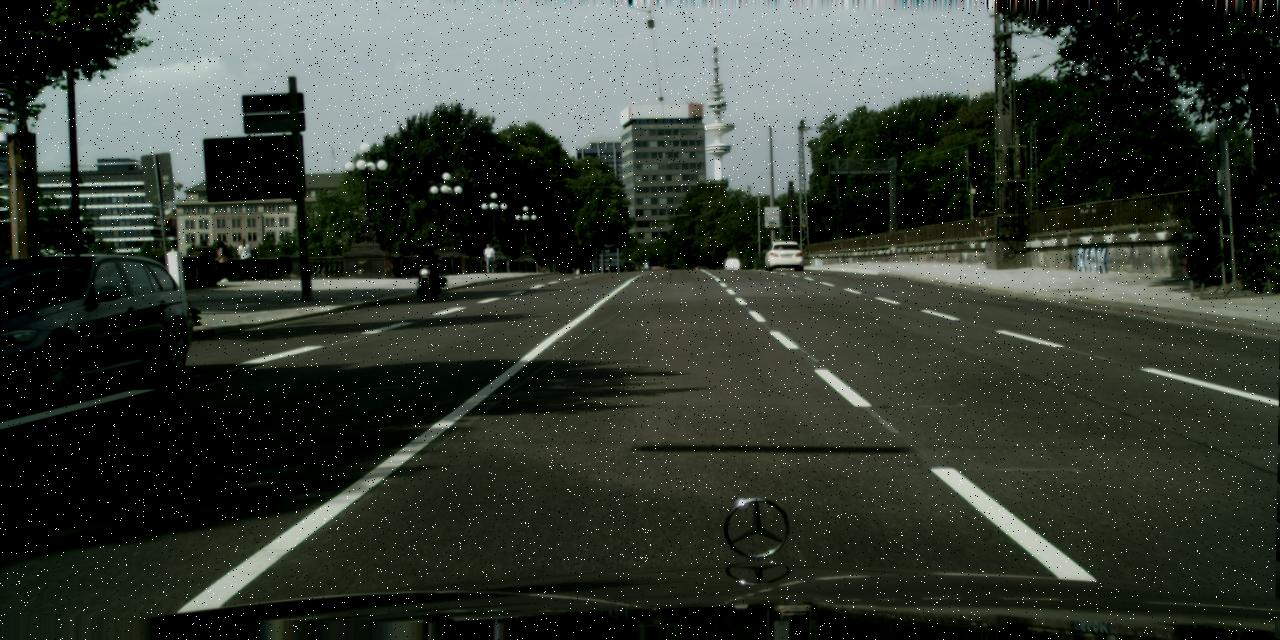ped: (418, 242, 438, 288), (238, 238, 255, 280), (214, 240, 230, 281), (484, 243, 494, 272)
